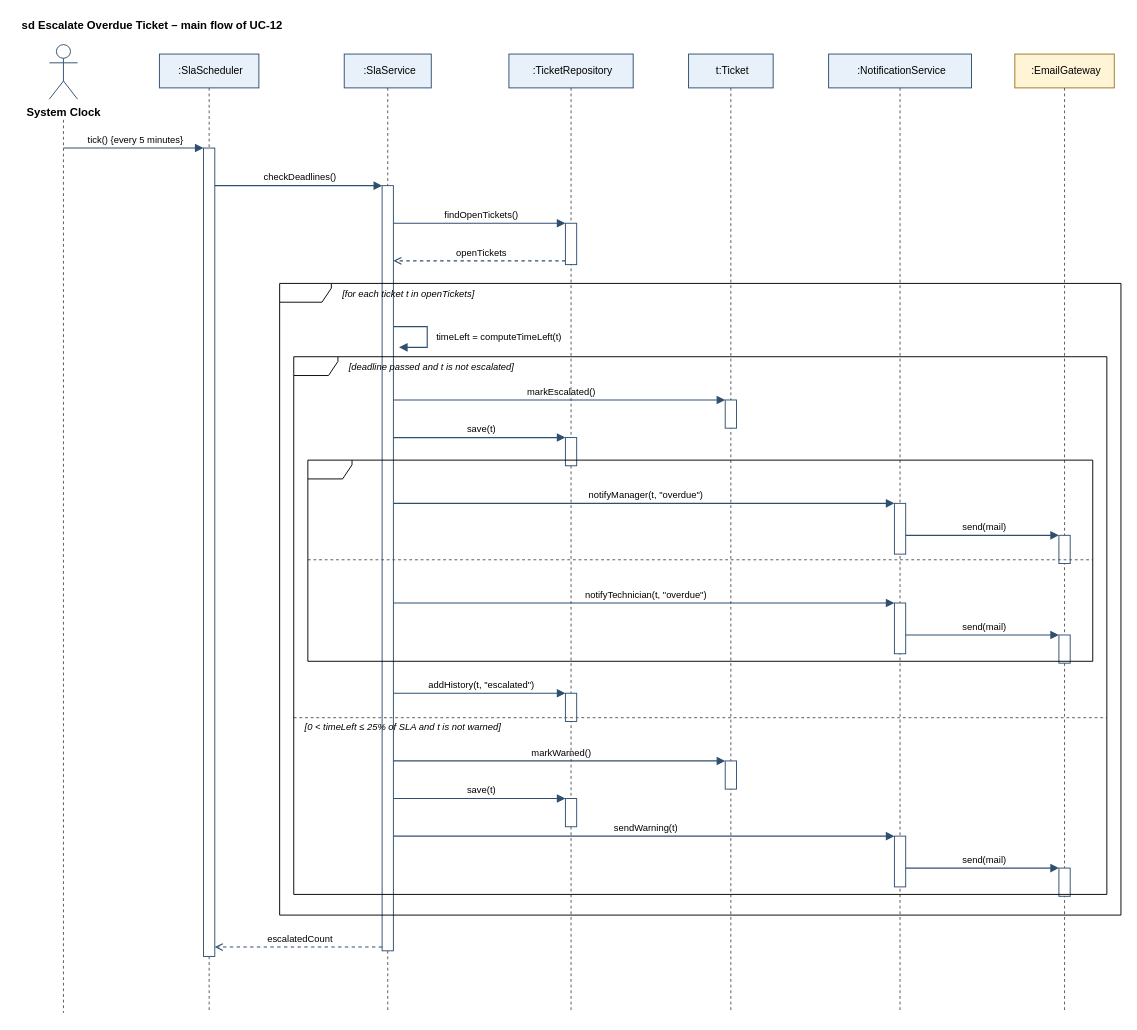
Some shapes in this 1137 by 1030 pixel diagram are drawn without their labels. The box of each missing label's shape, as (x1, y1, x2, y2) in pixels:
alt: (293, 356, 1107, 894)
loop: (279, 282, 1121, 915)
par: (307, 459, 1093, 661)
